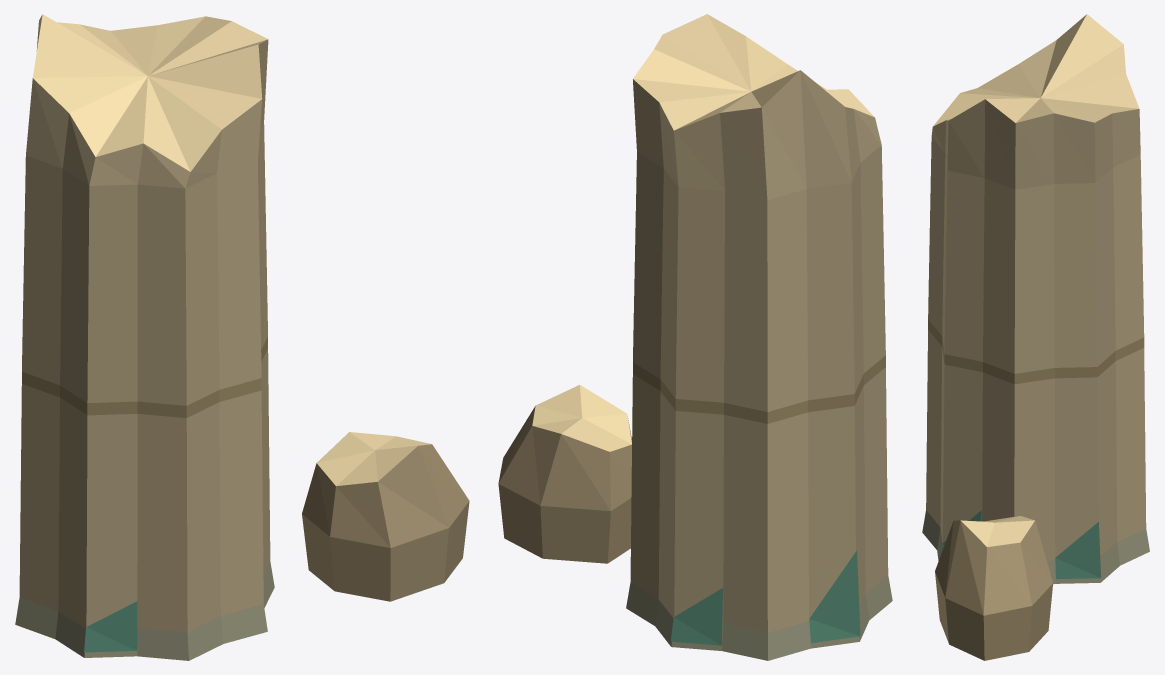
Rendered from ruins_pillar.glb.
The picture shows the model from 3 angles, left to right: view 1: azimuth 30°, elevation 25°; view 2: azimuth 150°, elevation 25°; view 3: azimuth 270°, elevation 25°; orthographic projection. The views are drawn at different scales.
Parts seen in each view (by area): view 1: Broken fluted pillar, Jagged exposed fracture, One fallen stone fragment, Fragment broken surface, Angular old lichen; view 2: Broken fluted pillar, One fallen stone fragment, Jagged exposed fracture, Angular old lichen, Fragment broken surface; view 3: Broken fluted pillar, One fallen stone fragment, Jagged exposed fracture, Angular old lichen, Fragment broken surface.
Boxes of the visible parts, left/top/right/bottom form: Broken fluted pillar: left=15, top=15, right=274, bottom=660; Jagged exposed fracture: left=32, top=14, right=267, bottom=171; One fallen stone fragment: left=302, top=444, right=469, bottom=601; Fragment broken surface: left=317, top=432, right=431, bottom=486; Angular old lichen: left=84, top=601, right=137, bottom=652; Broken fluted pillar: left=626, top=70, right=892, bottom=660; One fallen stone fragment: left=498, top=406, right=631, bottom=563; Jagged exposed fracture: left=633, top=14, right=873, bottom=130; Angular old lichen: left=670, top=550, right=860, bottom=645; Fragment broken surface: left=532, top=385, right=631, bottom=451; Broken fluted pillar: left=922, top=99, right=1149, bottom=584; One fallen stone fragment: left=935, top=520, right=1053, bottom=660; Jagged exposed fracture: left=933, top=14, right=1139, bottom=126; Angular old lichen: left=940, top=510, right=1100, bottom=579; Fragment broken surface: left=961, top=516, right=1034, bottom=547.
Bounding box in the file's own units: 0.8775 × 1.2 × 0.4989.
